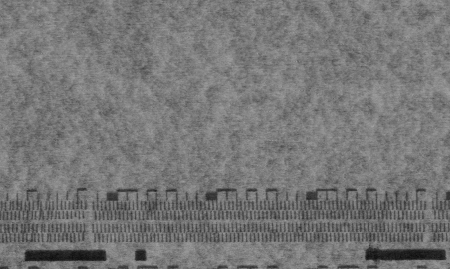Oblique printing: (2, 199, 56, 245)
